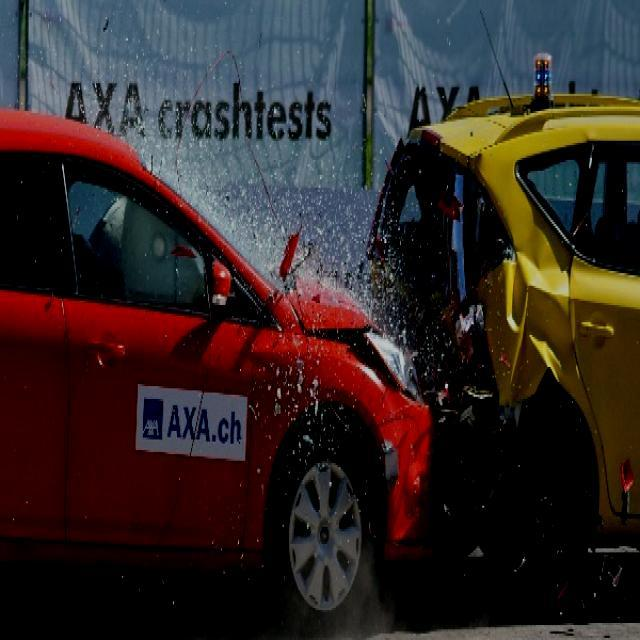accident: (141, 67, 572, 576)
